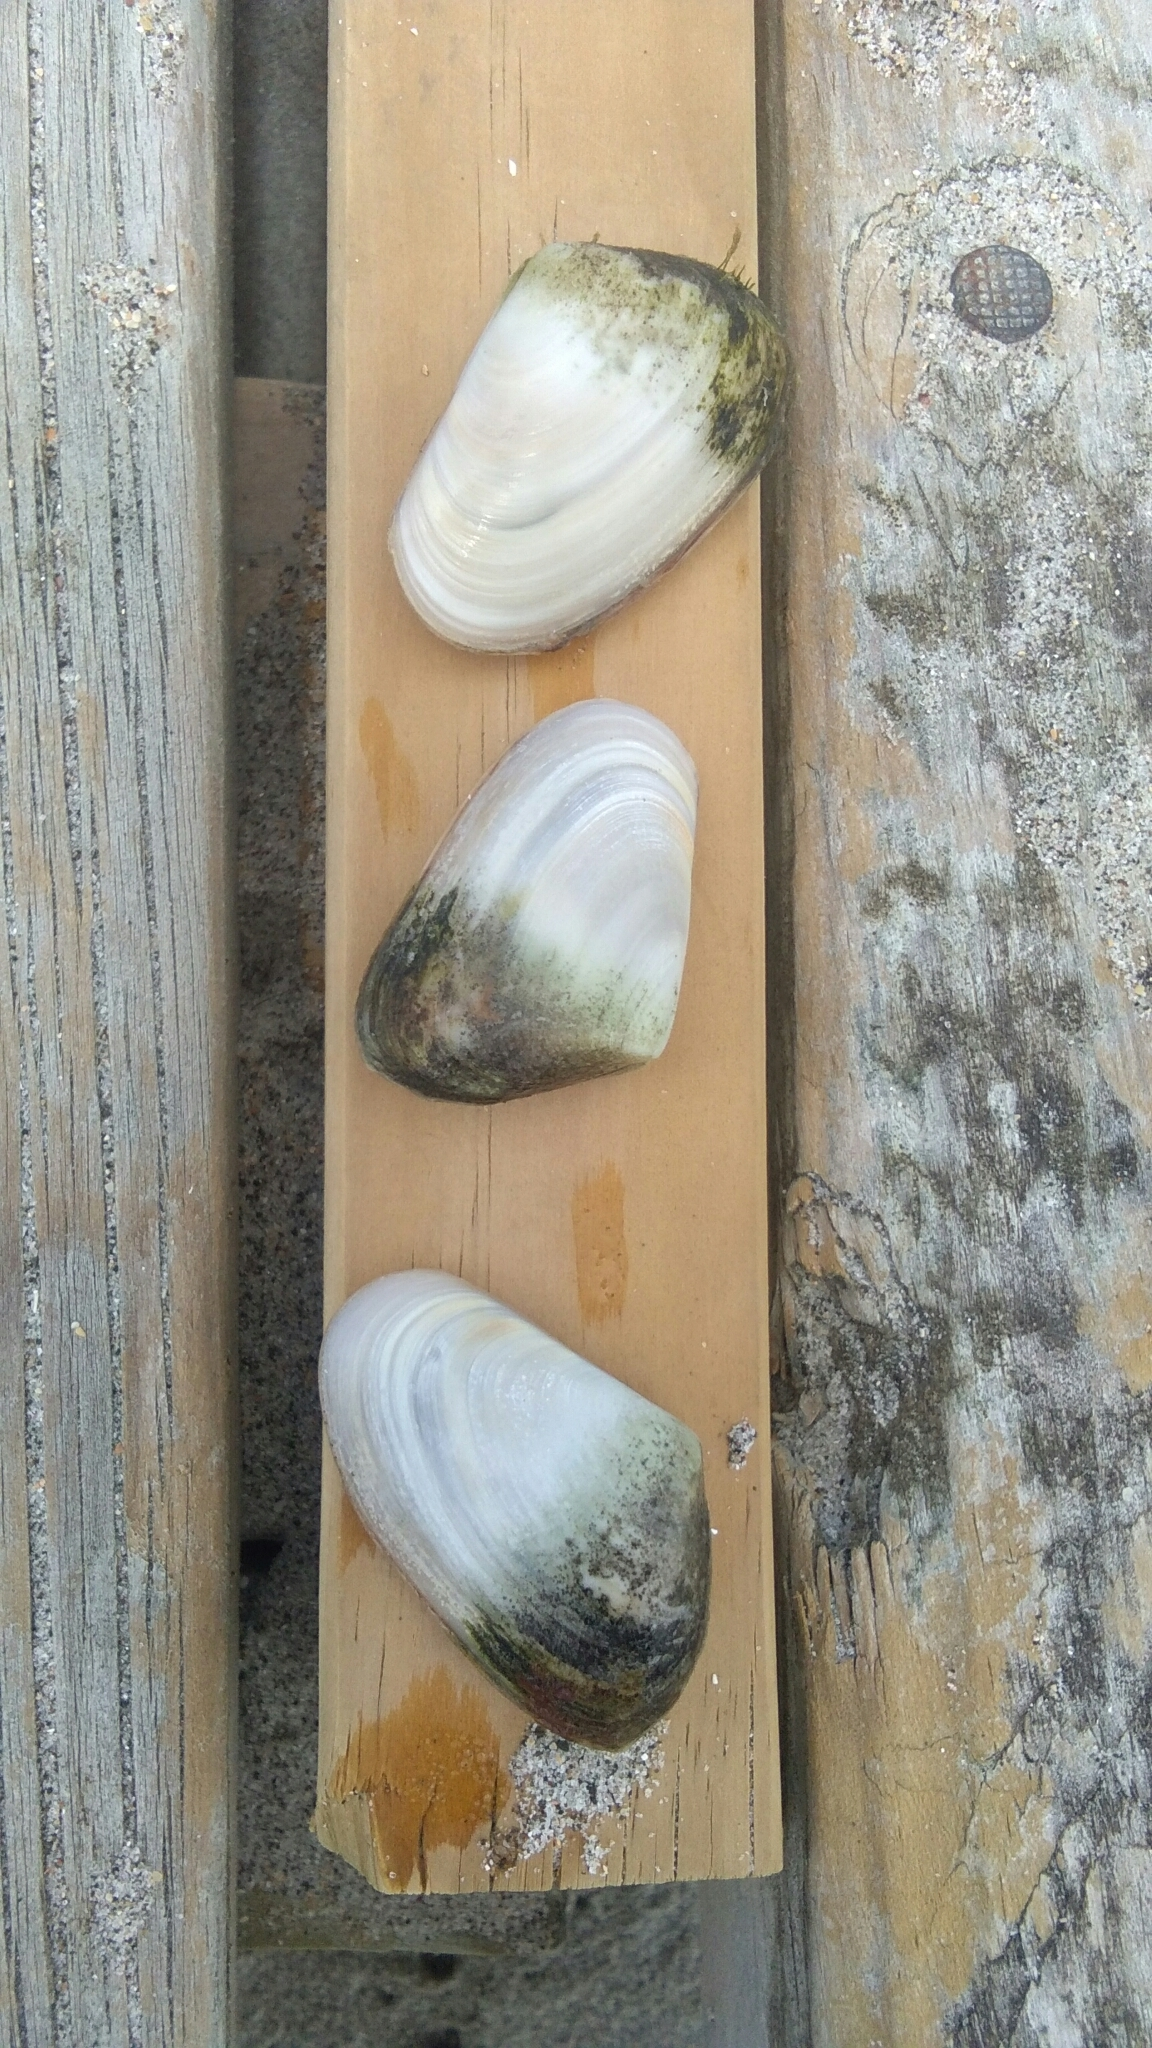tuatua: (319, 1257, 719, 1748), (378, 214, 783, 674), (354, 695, 708, 1122)
